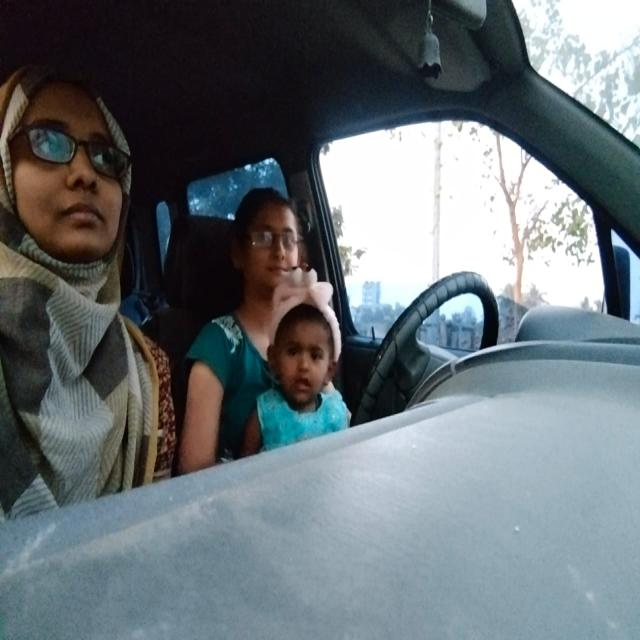child: (262, 292, 349, 408)
person: (0, 50, 146, 350), (220, 167, 314, 291)
